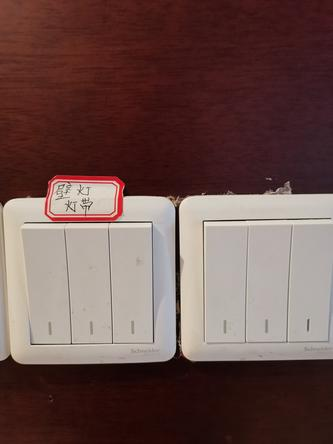switch: (17, 216, 74, 351), (195, 214, 250, 351), (58, 222, 117, 347), (105, 219, 160, 347), (244, 217, 294, 348), (284, 215, 333, 345)
